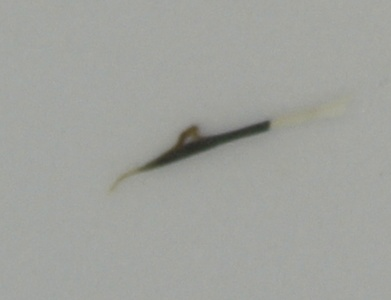เมล็ดงอกแตก: (106, 88, 355, 196)
